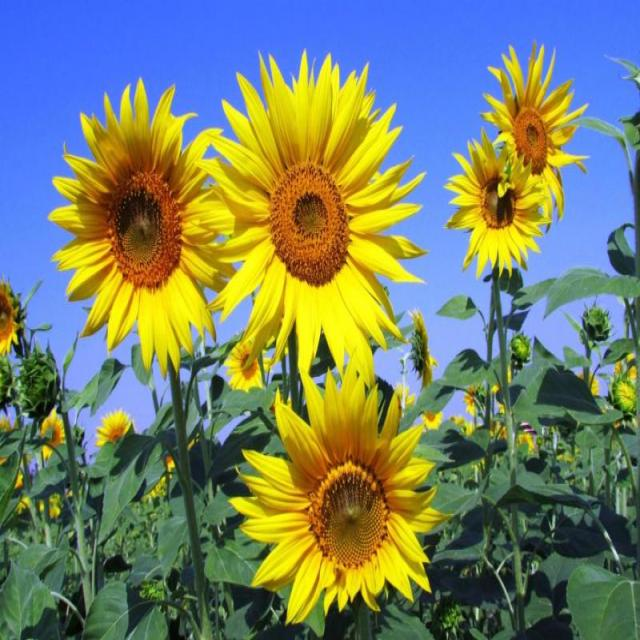sunflower: (189, 37, 428, 388), (41, 72, 250, 380), (231, 370, 446, 629), (480, 32, 590, 206), (442, 120, 551, 280)
